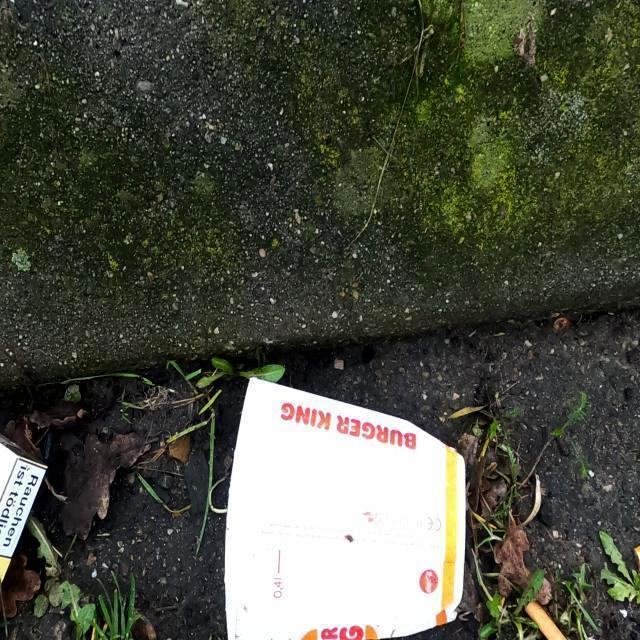Coffee Cup: (223, 372, 467, 640)
Paper: (0, 437, 50, 585)
